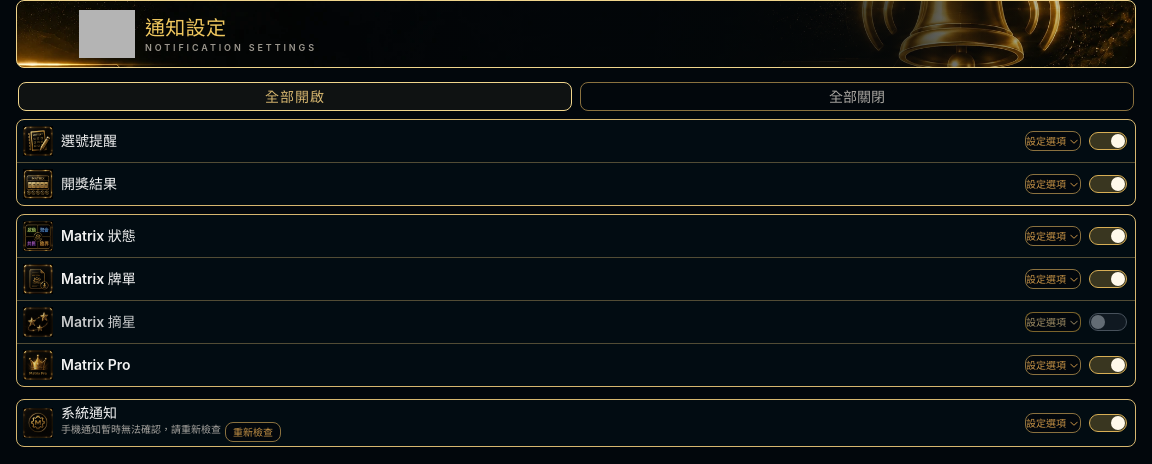
Test case: NotificationsPagePatched › 暫時檢查失敗可手動重查，不自動改偏好或要求通知權限
Expected: the text "手機通知暫時無法確認，請重新檢查" is shown, left=61, top=422, right=221, bottom=442
Expected: the button named "關閉系統通知" is enabled, left=1089, top=407, right=1127, bottom=439
Click the button with aria-label "重新檢查手機通知" at point(253, 432), box left=225, top=422, right=281, bottom=442
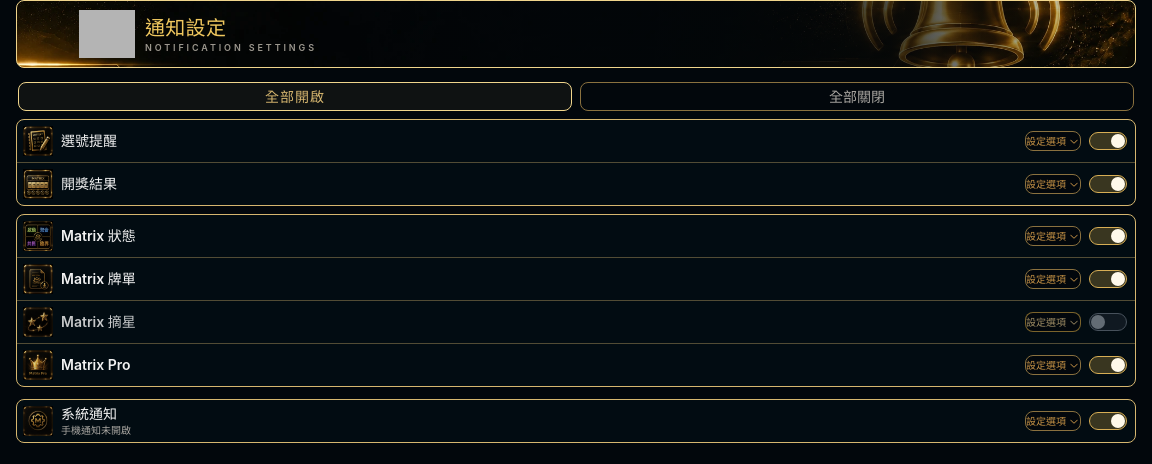
Expected: the button named "關閉系統通知" is enabled, left=1089, top=405, right=1127, bottom=437
Expected: the text "手機通知暫時無法確認，請重新檢查" is gone
